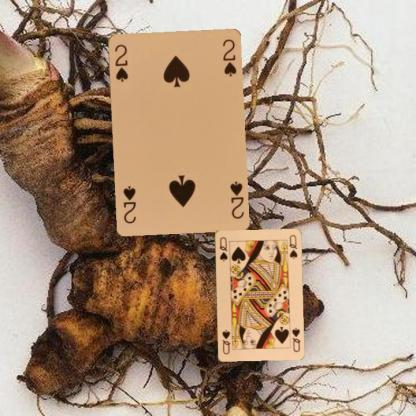2s: (227, 178, 245, 221), (112, 42, 130, 84)
Qs: (290, 324, 301, 354), (217, 233, 228, 262)
